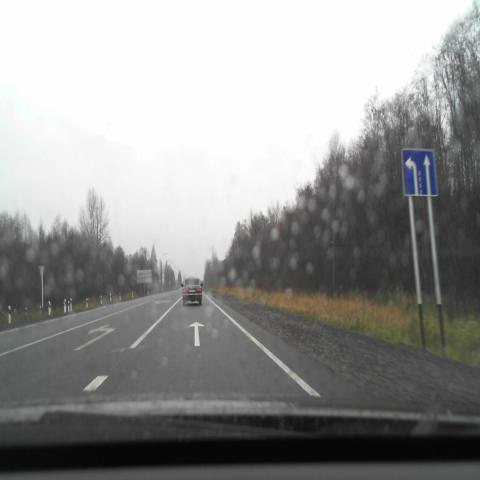5_15_2_2: (401, 148, 438, 197)
